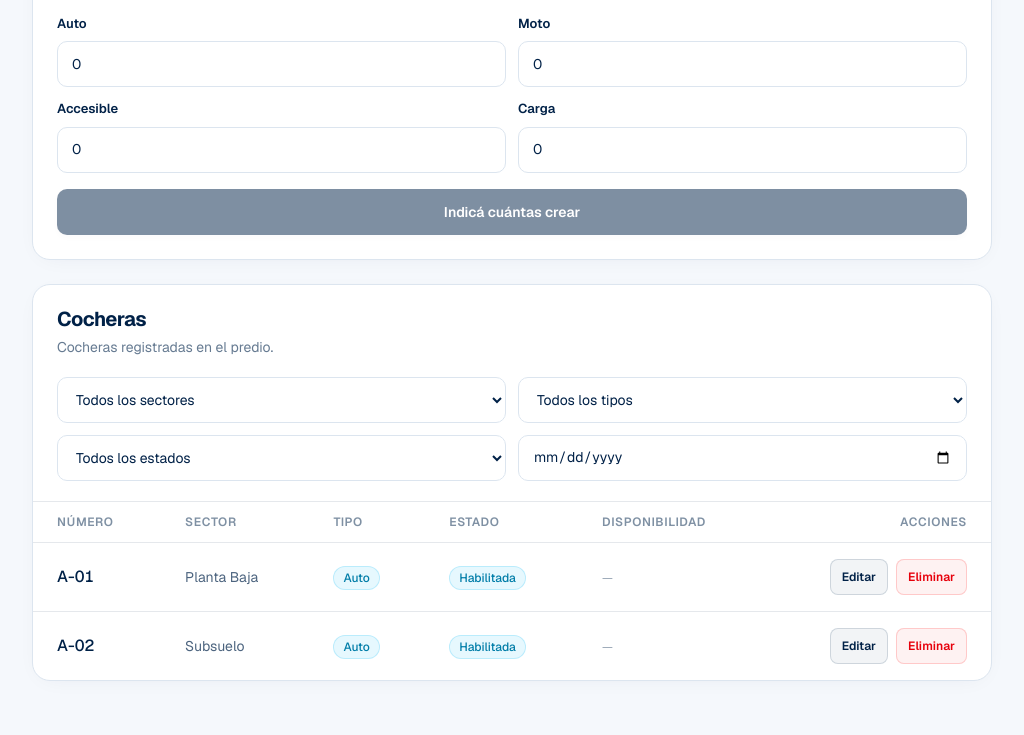
Test: CocherasManagement › filtra por sector pidiendole al backend, no en el cliente
(page scrolled)
Check: the text "A-01" is shown, box [33, 542, 161, 611]
Select "Subsuelo" in the 1st dropdown showing "Todos los sectores" at (282,400), box [57, 376, 506, 422]
(page scrolled)
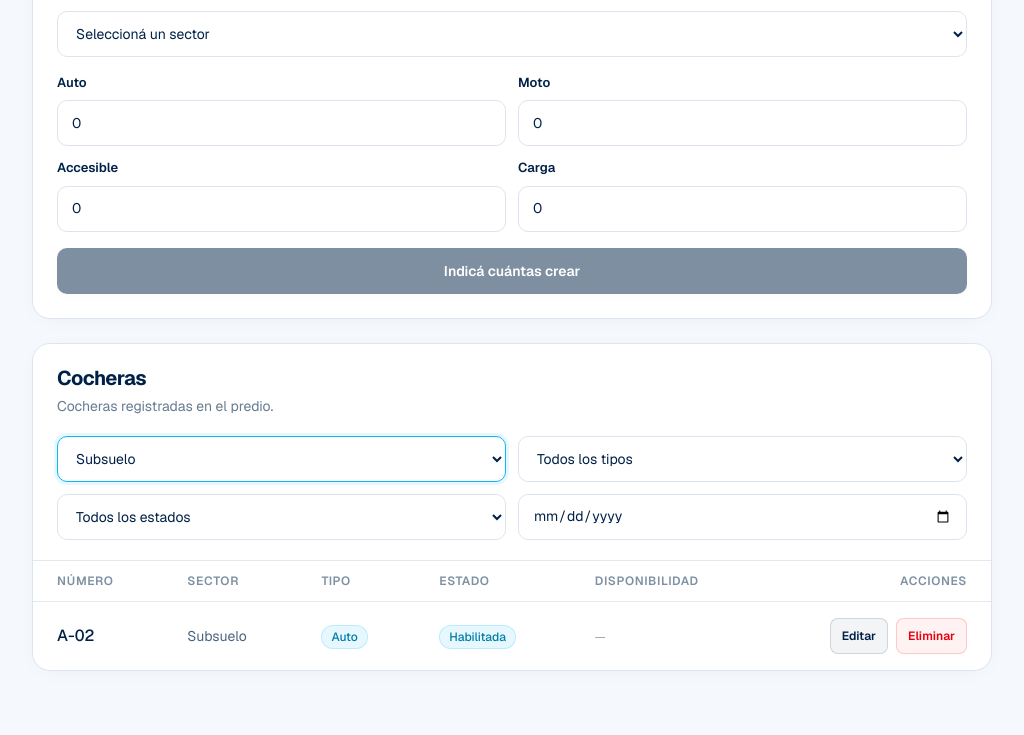
Check: the text "A-02" is shown, box [33, 601, 163, 670]
Check: the text "A-01" is gone
